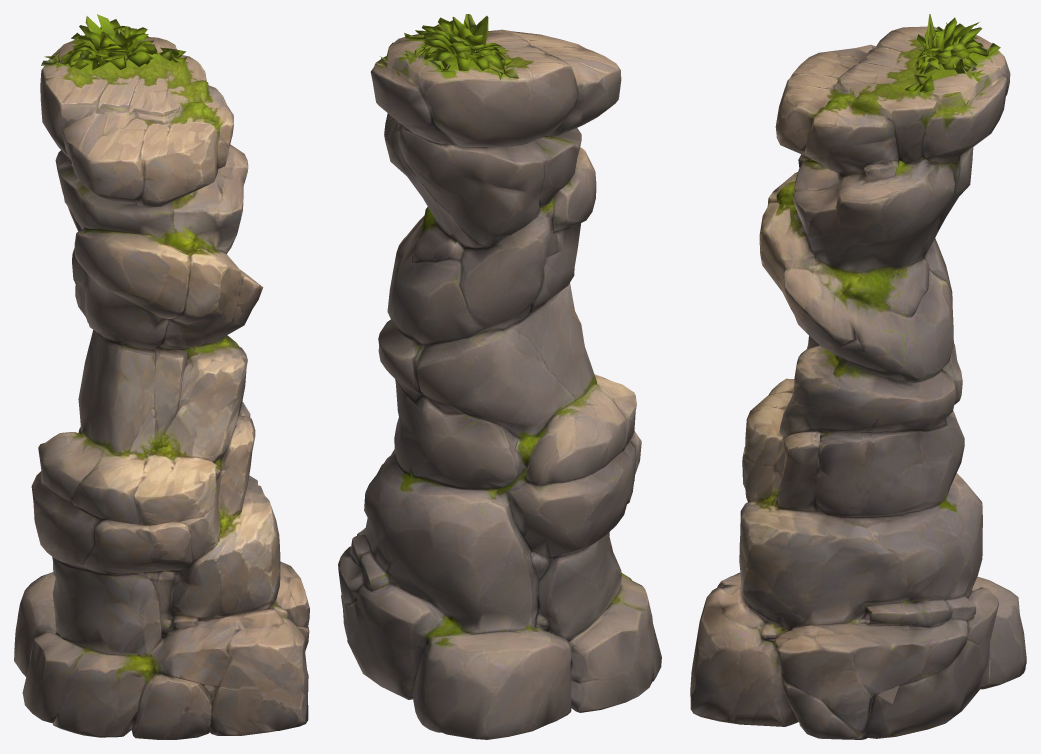
Rendered from rock-stack.glb.
3 views of the same model, side by side, from view 1: azimuth 30°, elevation 25°; view 2: azimuth 150°, elevation 25°; view 3: azimuth 270°, elevation 25° (orthographic). The views are drawn at different scales.
Visible parts, largest first — view 1: Mesh_0; view 2: Mesh_0; view 3: Mesh_0.
Boxes of the visible parts, x1,y1,x2,y2 form: Mesh_0: (14, 14, 309, 739); Mesh_0: (338, 14, 661, 739); Mesh_0: (690, 14, 1026, 739).
Bounding box in the file's own units: 0.4238 × 1 × 0.4649.
Materials: 1 (1 with a texture image).
